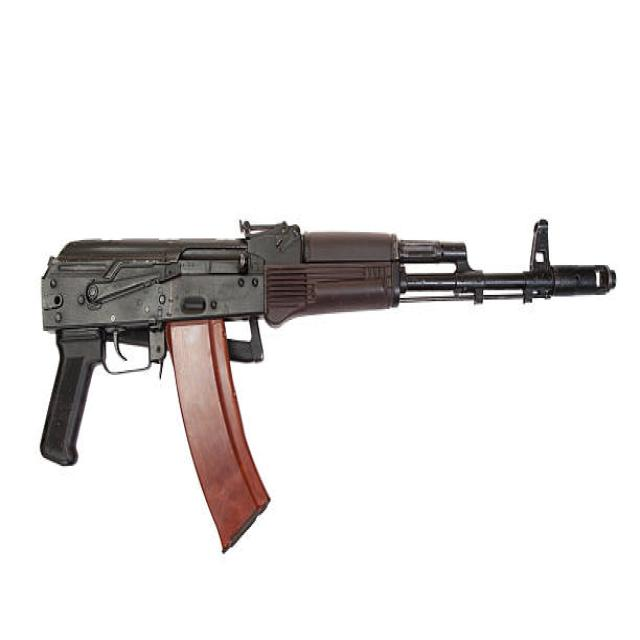rifle: (32, 211, 619, 570)
